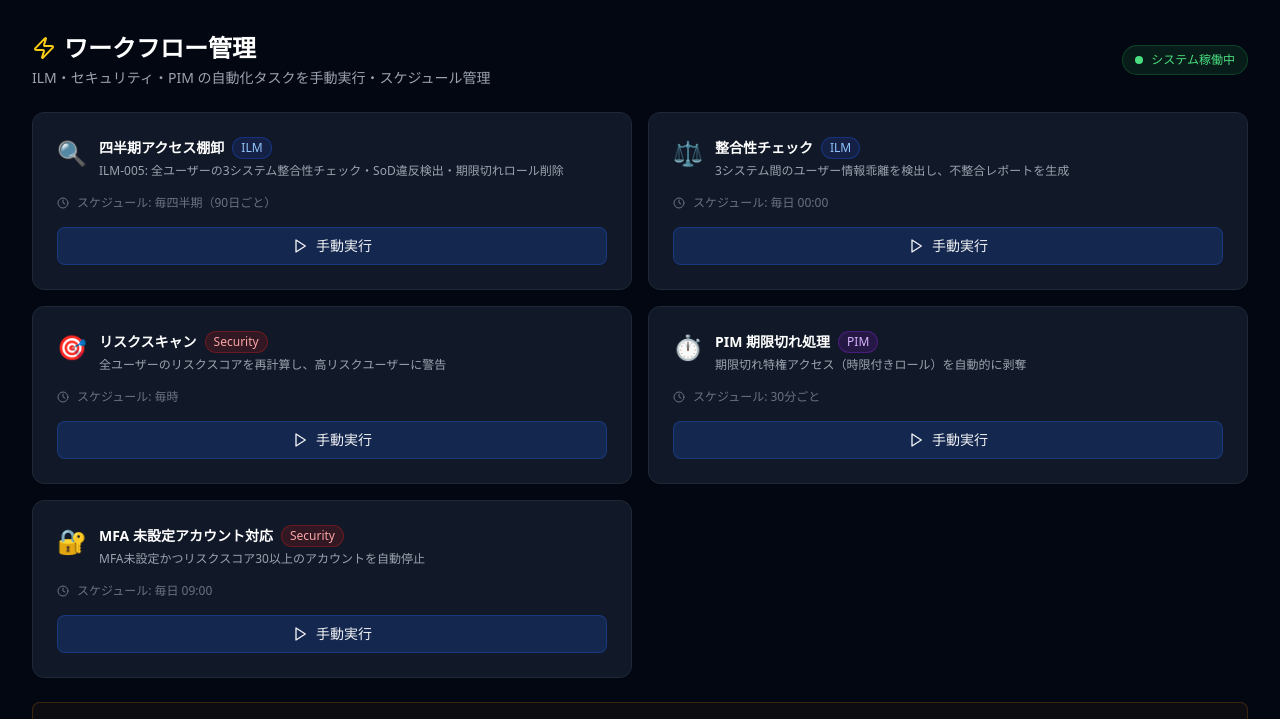
Test case: WorkflowsPage › 成功時に結果メッセージ表示
Click the button "手動実行" below "毎四半期（90日ごと）" at {"x": 332, "y": 246}, box [57,227,607,265]
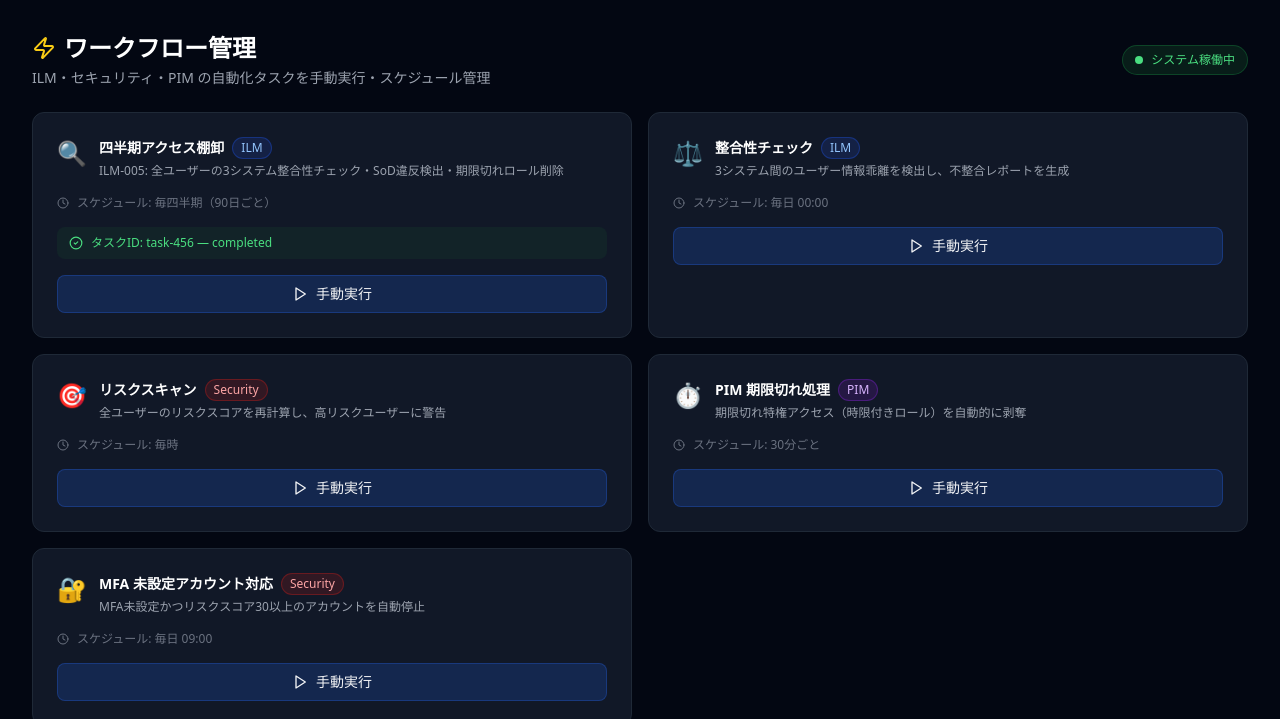
Now the text "タスクID: task-456 — completed" is shown, box [57,227,607,259]
